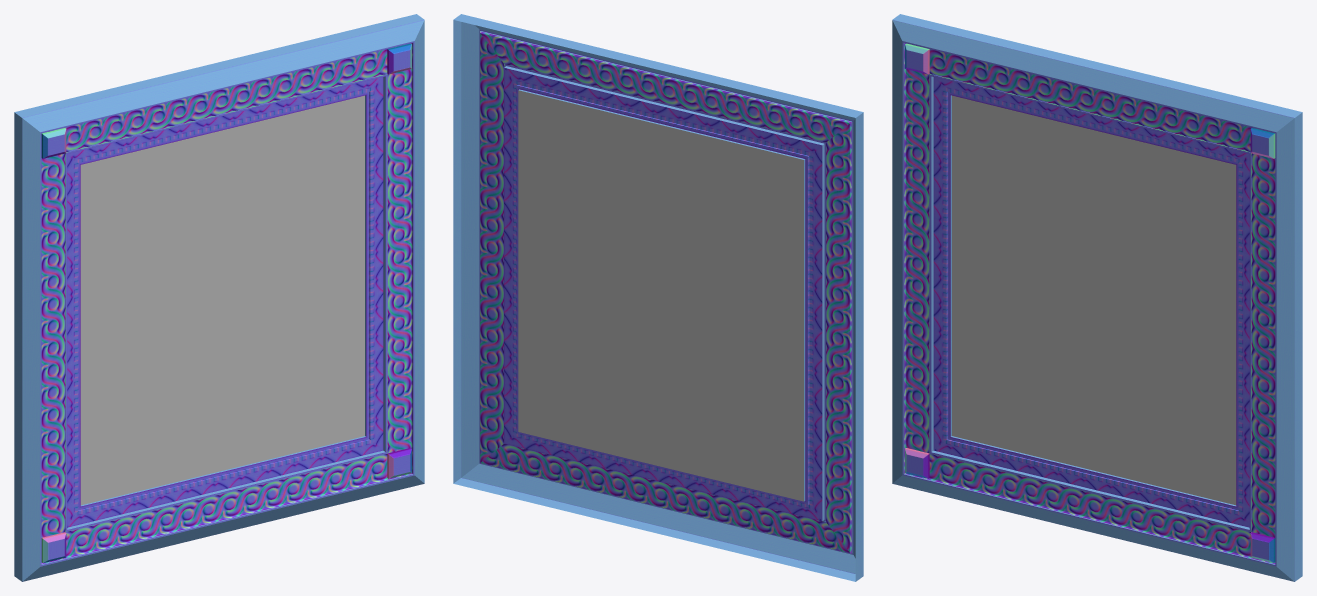
3 views of the same model, side by side, from view 1: azimuth 30°, elevation 25°; view 2: azimuth 150°, elevation 25°; view 3: azimuth 330°, elevation 25° (orthographic).
Visible parts, largest first — view 1: _14_05_frame, _14_05; view 2: _14_05, _14_05_frame; view 3: _14_05_frame, _14_05.
Boxes of the visible parts, bbox=[...] form: _14_05_frame: bbox=[14, 14, 424, 581]; _14_05: bbox=[80, 95, 364, 505]; _14_05: bbox=[518, 90, 803, 501]; _14_05_frame: bbox=[453, 14, 863, 581]; _14_05_frame: bbox=[892, 14, 1302, 581]; _14_05: bbox=[952, 95, 1236, 505].
Size of the model in its own units: 69.03 by 76.03 by 4.09.
